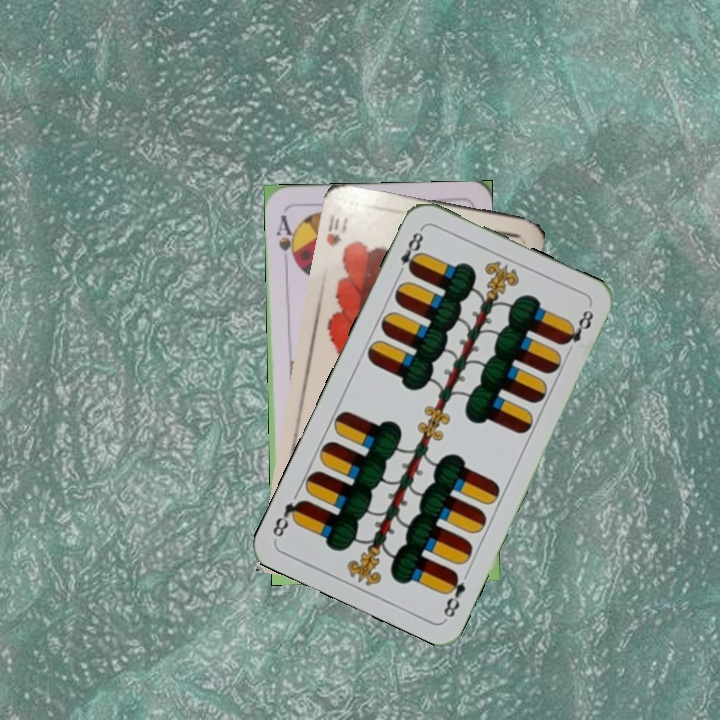E8: (393, 224, 426, 279), (439, 567, 469, 622)
H10: (322, 210, 351, 250)
SA: (272, 210, 299, 268)
